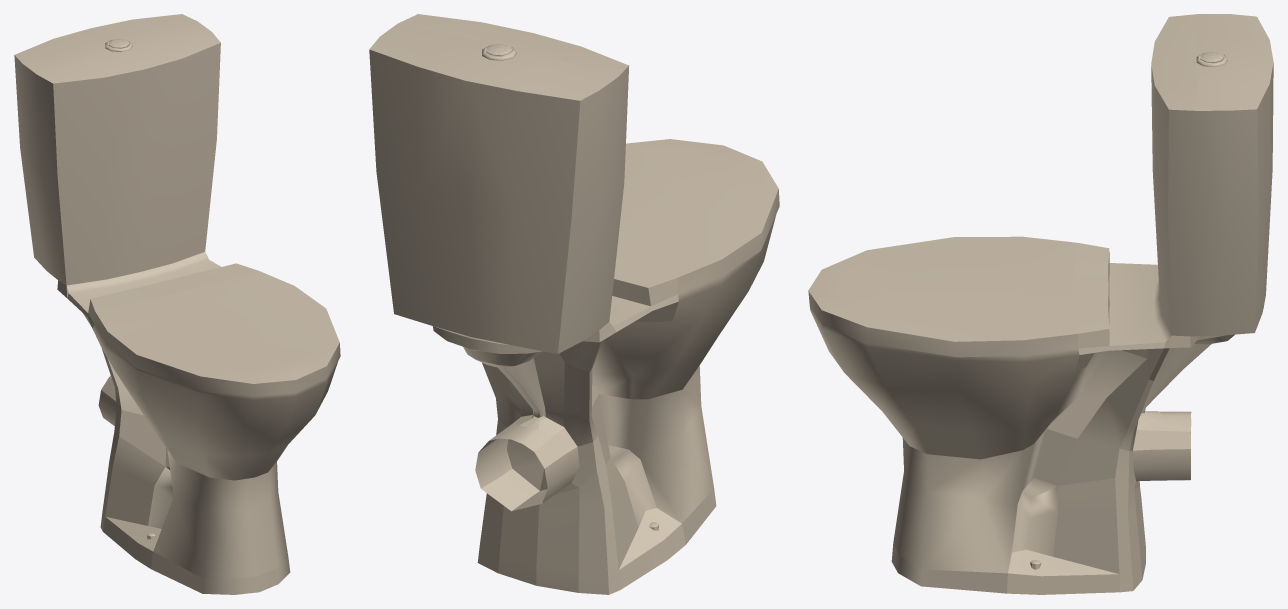
The model's file is toilet_18_L.fbx.
The picture shows the model from 3 angles, left to right: view 1: azimuth 30°, elevation 25°; view 2: azimuth 150°, elevation 25°; view 3: azimuth 270°, elevation 25°; orthographic projection. The views are drawn at different scales.
Visible parts, largest first — view 1: toilet_18_L; view 2: toilet_18_L; view 3: toilet_18_L.
Boxes of the visible parts, bbox=[...] form: toilet_18_L: bbox=[14, 14, 340, 594]; toilet_18_L: bbox=[369, 14, 779, 594]; toilet_18_L: bbox=[808, 14, 1273, 594].
Bounding box in the file's own units: 8.81 × 19.85 × 16.47.
